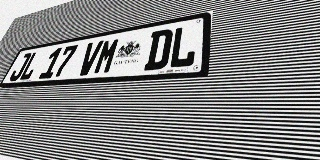1: (38, 47, 65, 79)
7: (51, 45, 78, 78)
D: (143, 28, 174, 71)
J: (8, 53, 32, 81)
L: (168, 24, 199, 69), (18, 51, 43, 81)
M: (92, 37, 121, 75)
V: (76, 40, 104, 76)
